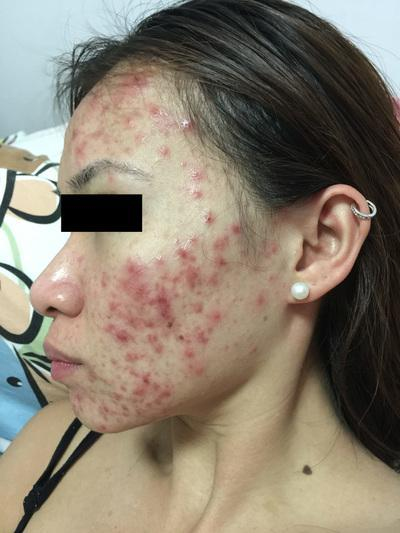fore: (195, 323, 227, 349), (264, 238, 292, 265), (127, 383, 157, 406), (97, 396, 124, 421), (180, 357, 207, 382), (153, 379, 181, 403), (123, 405, 155, 426), (105, 295, 134, 317), (85, 91, 110, 116), (245, 290, 270, 315), (206, 305, 229, 331), (209, 234, 234, 257), (153, 292, 176, 317), (76, 142, 97, 168), (177, 101, 197, 128), (154, 134, 173, 162), (192, 295, 214, 318), (99, 315, 122, 337), (119, 345, 142, 367), (130, 366, 155, 386), (166, 348, 200, 362), (154, 264, 177, 284), (173, 240, 197, 259), (138, 325, 162, 344), (179, 264, 199, 286), (104, 377, 127, 396), (129, 63, 150, 83), (203, 258, 231, 273), (119, 252, 142, 270), (192, 184, 209, 208), (138, 311, 158, 331), (227, 212, 249, 230), (60, 120, 83, 137), (136, 282, 155, 302), (117, 327, 136, 347), (119, 109, 140, 127), (151, 104, 168, 126), (197, 208, 220, 224), (129, 127, 148, 146), (208, 271, 228, 289), (96, 268, 111, 291), (182, 160, 196, 180), (147, 340, 167, 354), (95, 418, 111, 435), (172, 329, 188, 345), (263, 269, 278, 285), (245, 341, 260, 356), (69, 403, 84, 418), (162, 316, 177, 331), (84, 366, 98, 382), (151, 252, 168, 265), (118, 272, 131, 288), (107, 351, 118, 368), (86, 390, 99, 404), (196, 386, 210, 399), (73, 388, 85, 402)
